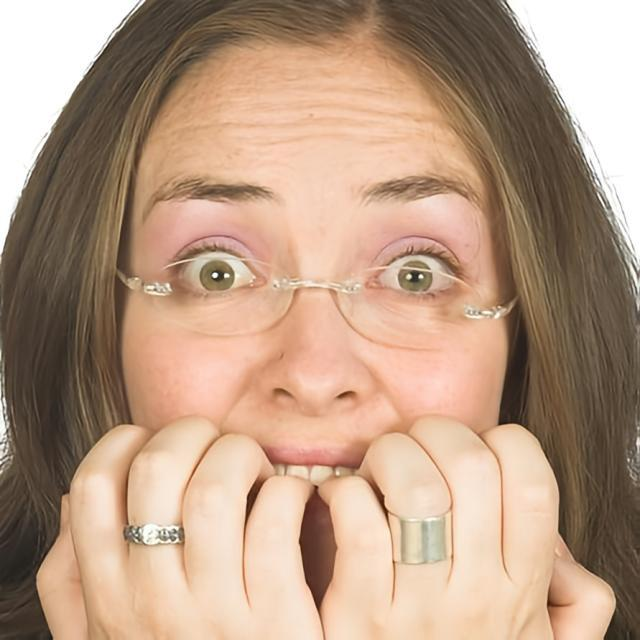fear: (117, 38, 516, 626)
